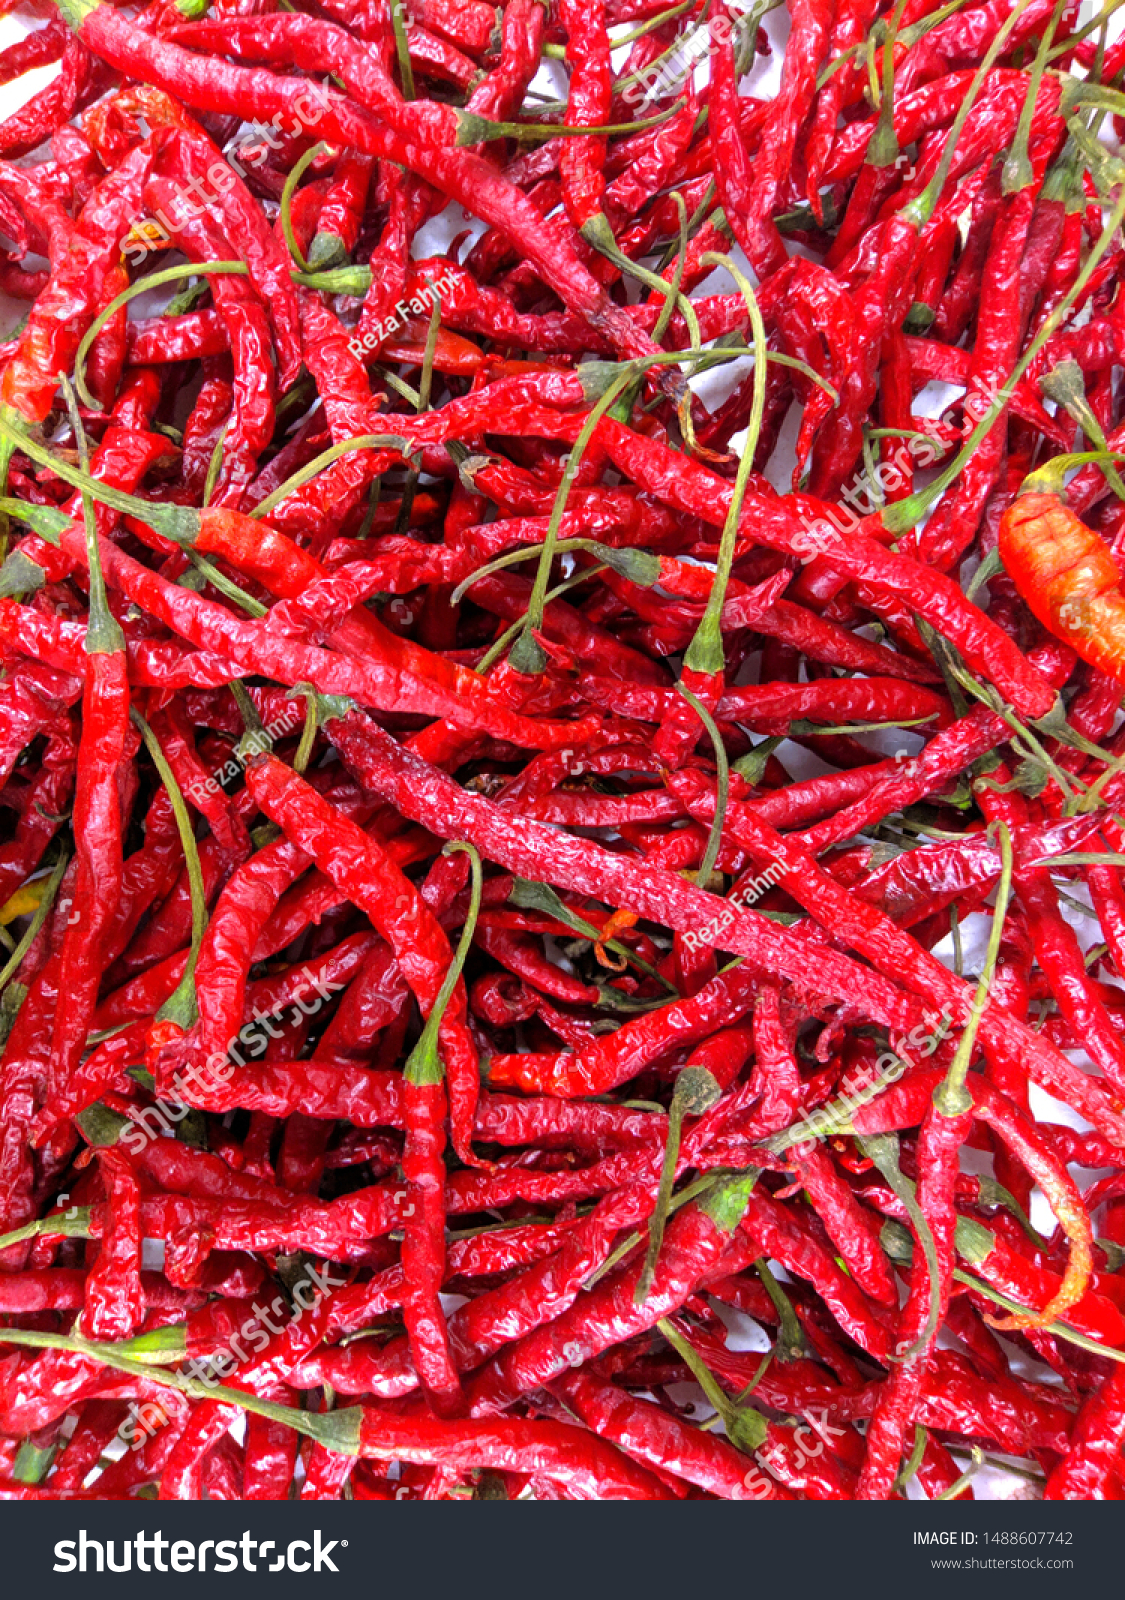Cabai: (222, 343, 905, 1173)
